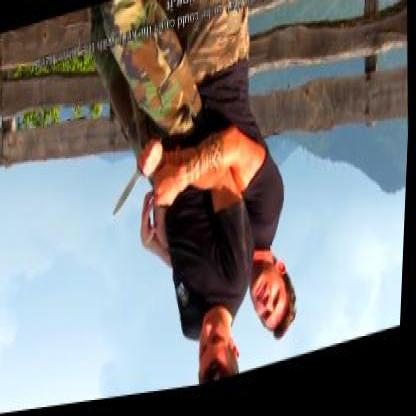knife: (107, 133, 170, 226)
